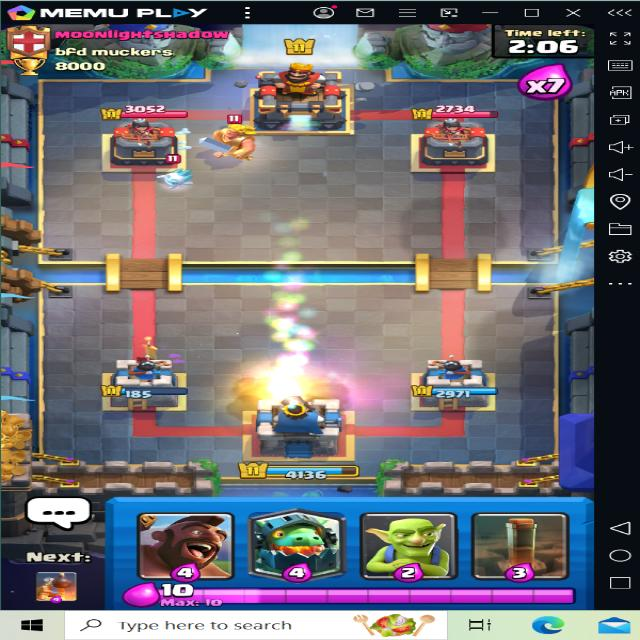golden-knight: (198, 108, 274, 164)
ice-spirit: (155, 164, 193, 190)
